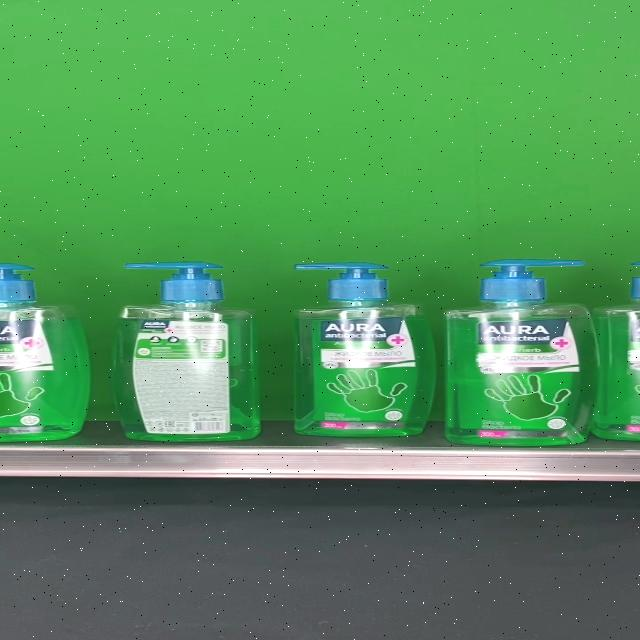Bottle: (445, 256, 600, 446), (111, 261, 261, 442), (291, 261, 436, 437)
Cap: (477, 256, 584, 302), (125, 261, 223, 303), (292, 262, 388, 302)
